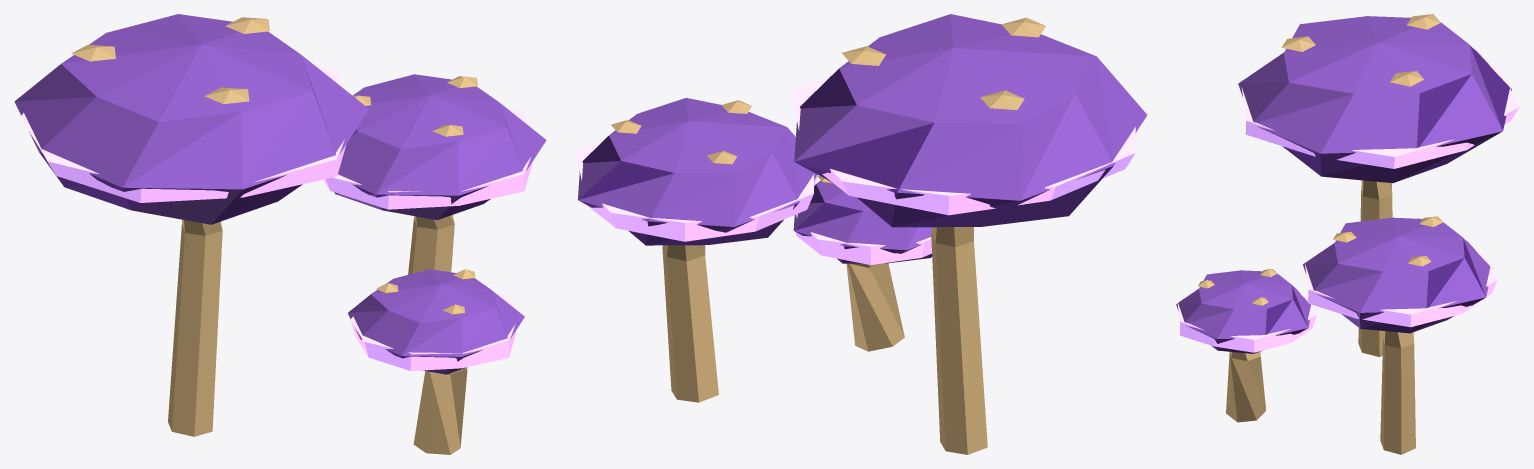
The model's file is CogumelosLuminosos.fbx.
The picture shows the model from 3 angles, left to right: view 1: azimuth 30°, elevation 25°; view 2: azimuth 150°, elevation 25°; view 3: azimuth 270°, elevation 25°; orthographic projection. The views are drawn at different scales.
Parts seen in each view (by area): view 1: CogumelosLuminosos_Folha_3, CogumelosLuminosos_Folha_1, CogumelosLuminosos_Folha_4, CogumelosLuminosos_Folha_2; view 2: CogumelosLuminosos_Folha_3, CogumelosLuminosos_Folha_1, CogumelosLuminosos_Folha_2, CogumelosLuminosos_Folha_4; view 3: CogumelosLuminosos_Folha_3, CogumelosLuminosos_Folha_1, CogumelosLuminosos_Folha_2, CogumelosLuminosos_Folha_4.
Part boxes in pixels (left/top/right/bottom): CogumelosLuminosos_Folha_3: left=14, top=14, right=546, bottom=374; CogumelosLuminosos_Folha_1: left=71, top=17, right=477, bottom=454; CogumelosLuminosos_Folha_4: left=20, top=65, right=532, bottom=370; CogumelosLuminosos_Folha_2: left=39, top=152, right=489, bottom=374; CogumelosLuminosos_Folha_3: left=578, top=14, right=1147, bottom=250; CogumelosLuminosos_Folha_1: left=611, top=17, right=1045, bottom=454; CogumelosLuminosos_Folha_2: left=578, top=69, right=1113, bottom=263; CogumelosLuminosos_Folha_4: left=575, top=78, right=1136, bottom=264; CogumelosLuminosos_Folha_3: left=1176, top=16, right=1502, bottom=338; CogumelosLuminosos_Folha_1: left=1198, top=14, right=1442, bottom=454; CogumelosLuminosos_Folha_2: left=1189, top=45, right=1511, bottom=353; CogumelosLuminosos_Folha_4: left=1177, top=65, right=1519, bottom=352.
Size of the model in its own units: 434 by 313 by 314.
